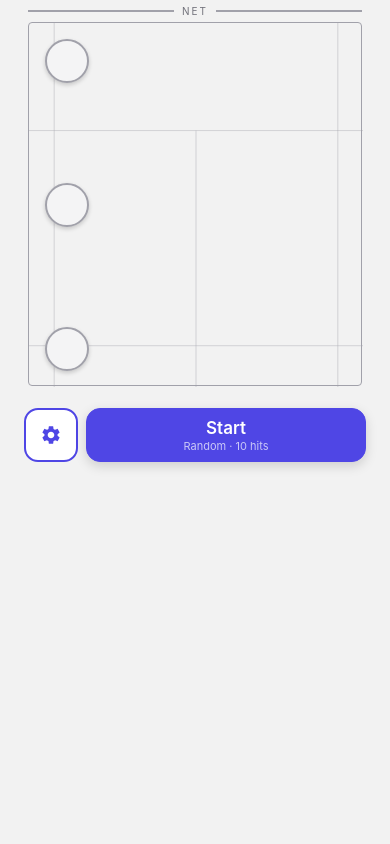
Scenario: the drill setup is a pushed nav route — the gear opens it, Done pops back
Expected: the element with test id "drill-surface" is shown, [24,5,366,462]
Click the button with test id "drill-settings-button": {"x": 51, "y": 435} [24,408,78,462]
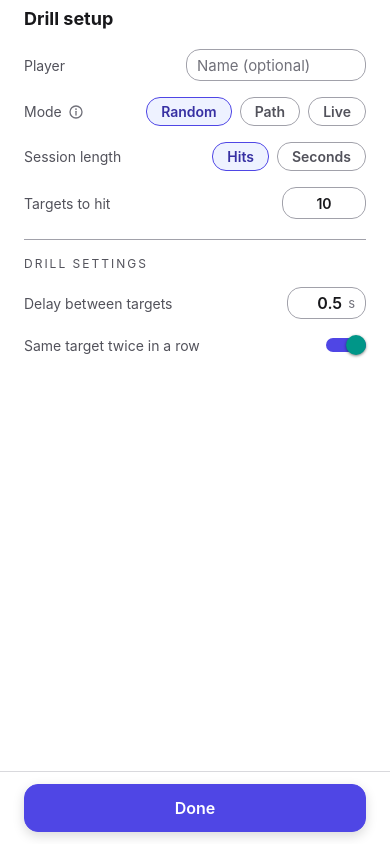
Expected: the element with test id "drill-settings-page" is shown
Click the button with test id "drill-settings-done": {"x": 195, "y": 808} [24,784,366,832]
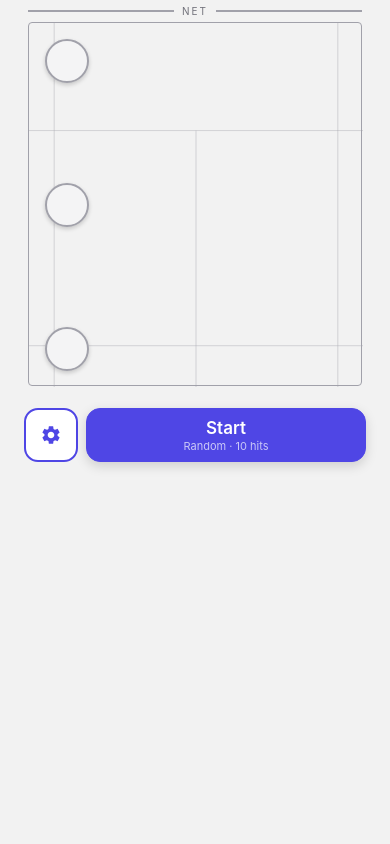
Expected: the element with test id "drill-surface" is shown, [24,5,366,462]
Expected: the element with test id "drill-settings-page" is gone
